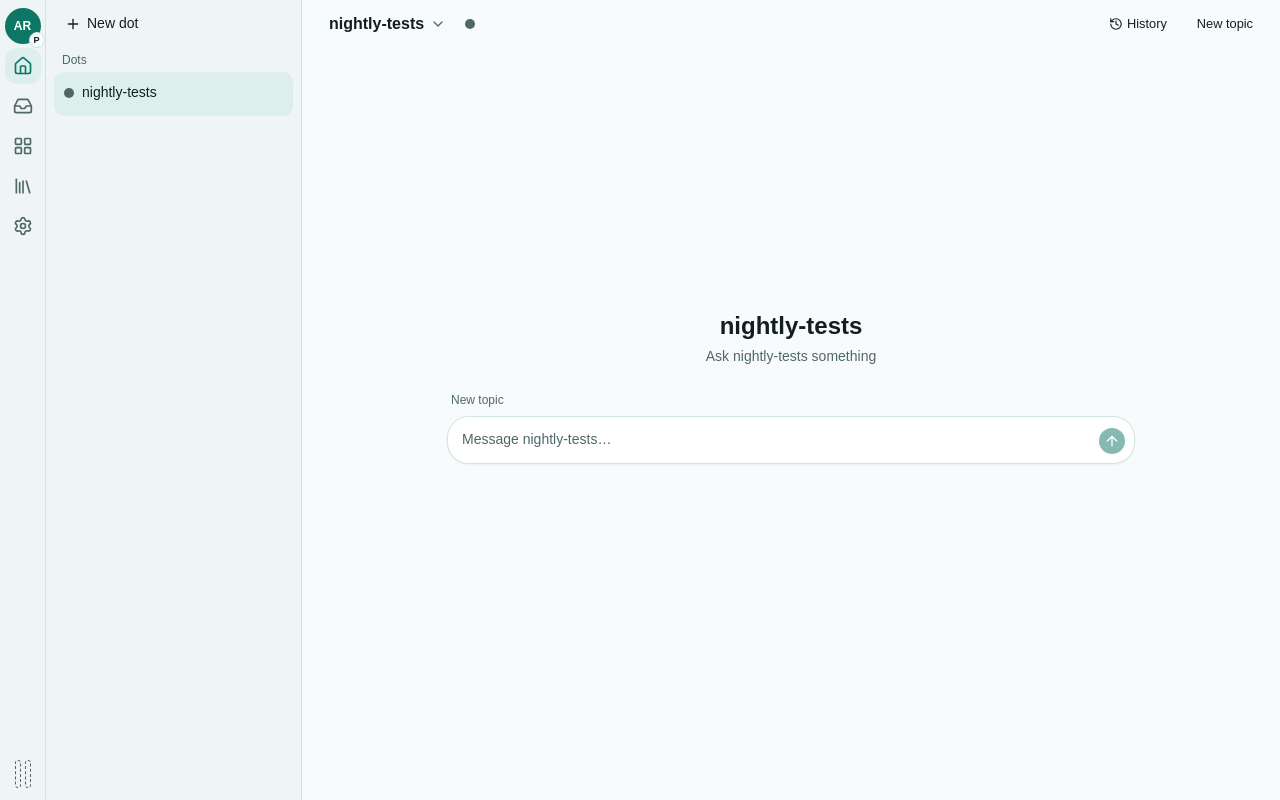
Test: the dot's menu › turns the dot off and shows the stored state
Click the button "nightly-tests" at (388, 24), box [318,8,457,40]
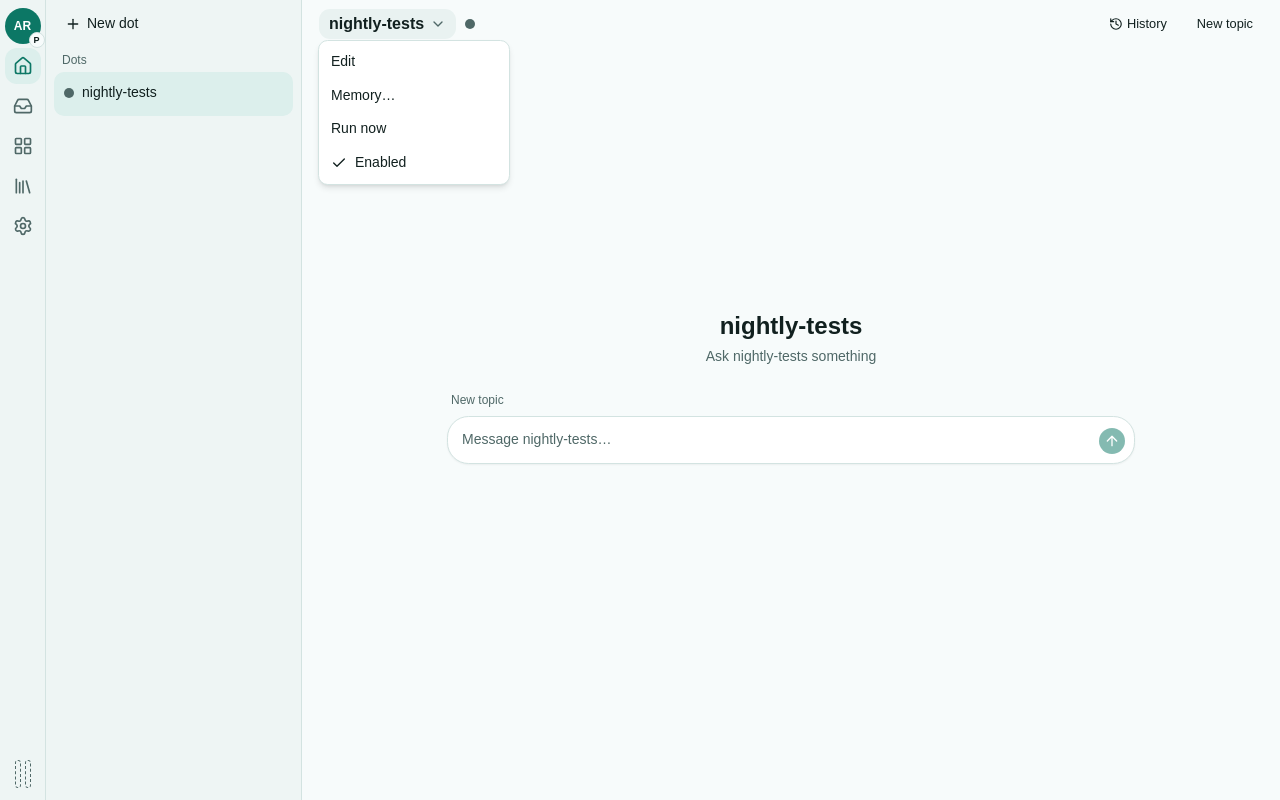
Expected: the menu item "Enabled" is checked
Click the menu item "Enabled" at (369, 162), box [331,154,406,171]
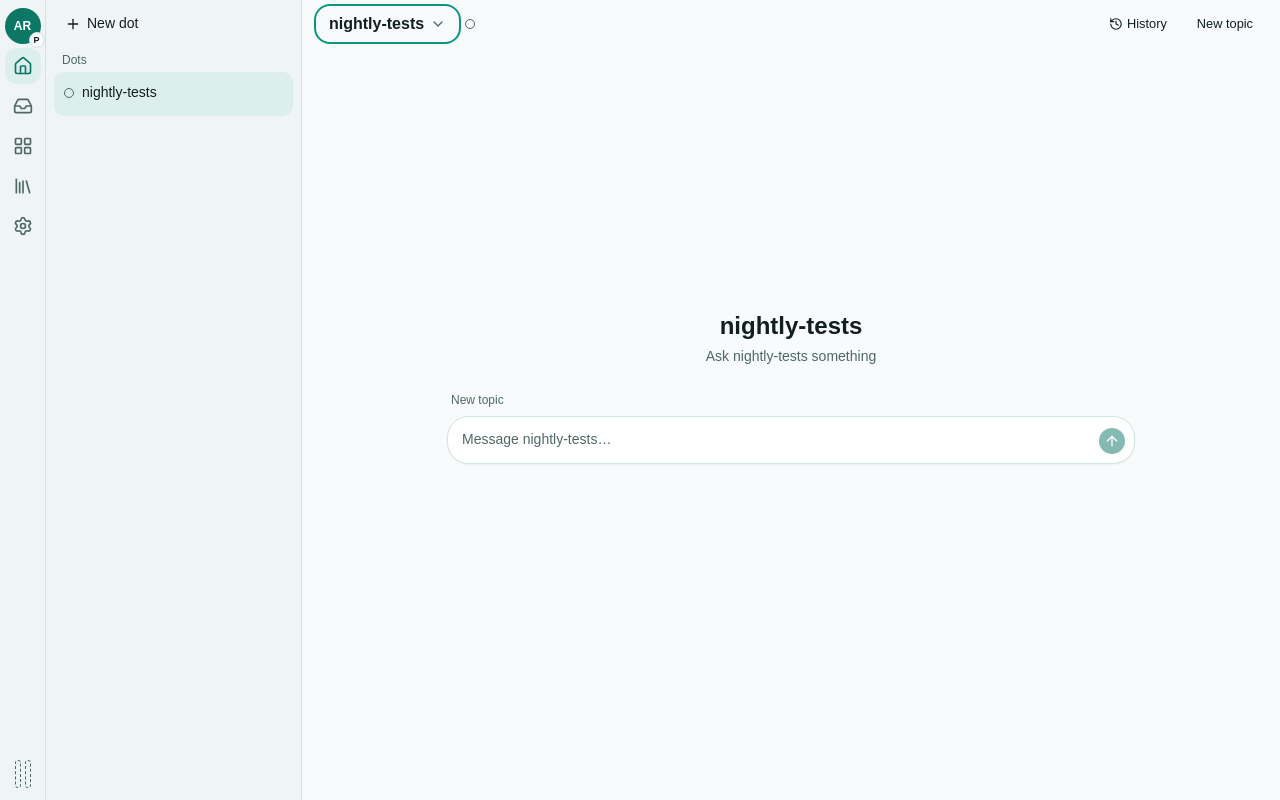
Expected: the 1st picture named "off" is shown, [465,19,475,29]
Click the button "nightly-tests" at (388, 24), box [318,8,457,40]
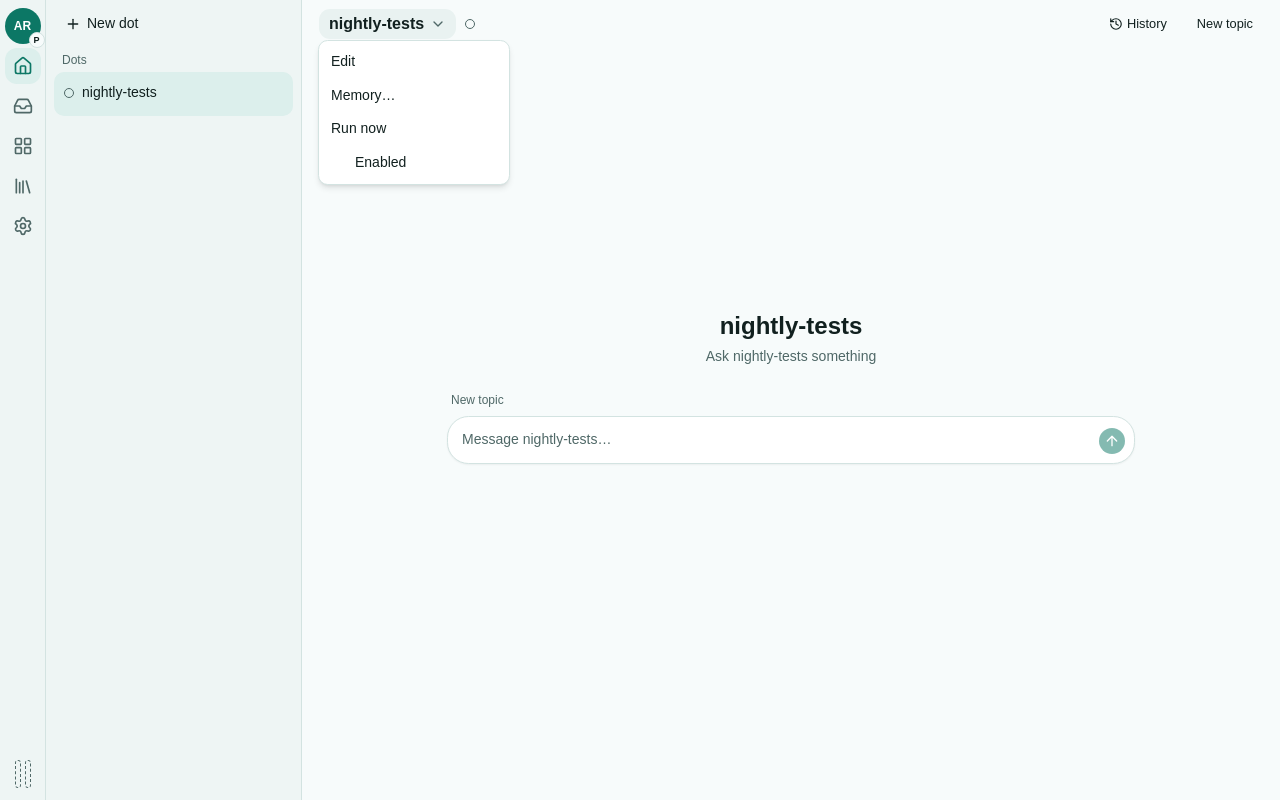
Expected: the menu item "Enabled" is not checked, [355,154,406,170]
